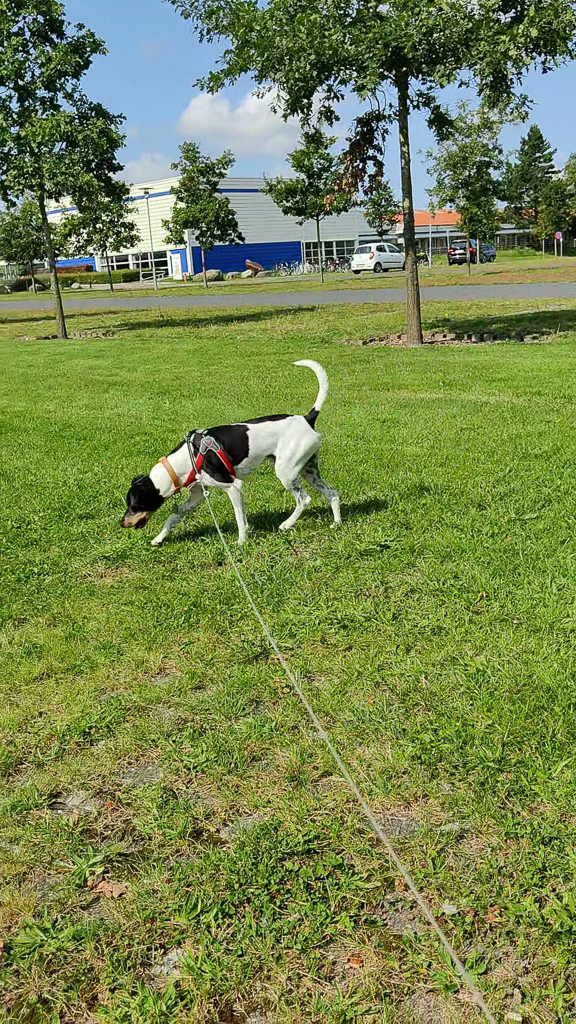Dog: (111, 354, 359, 555)
